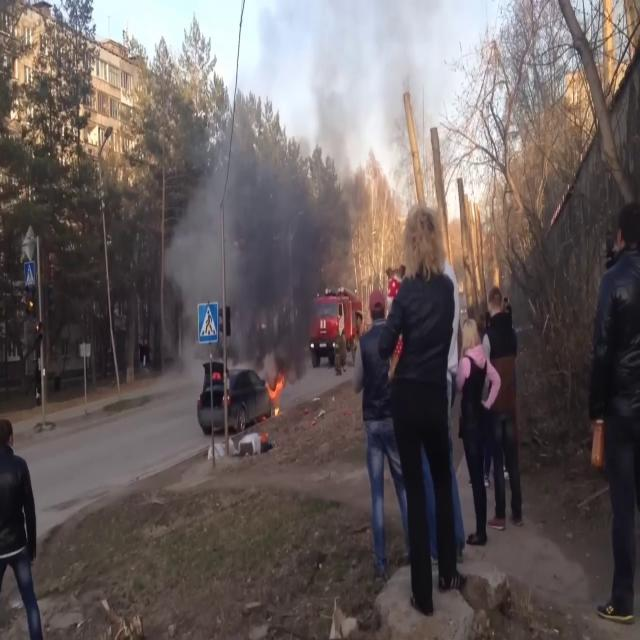Fire: (266, 368, 286, 416)
Smoke: (164, 110, 320, 363)
